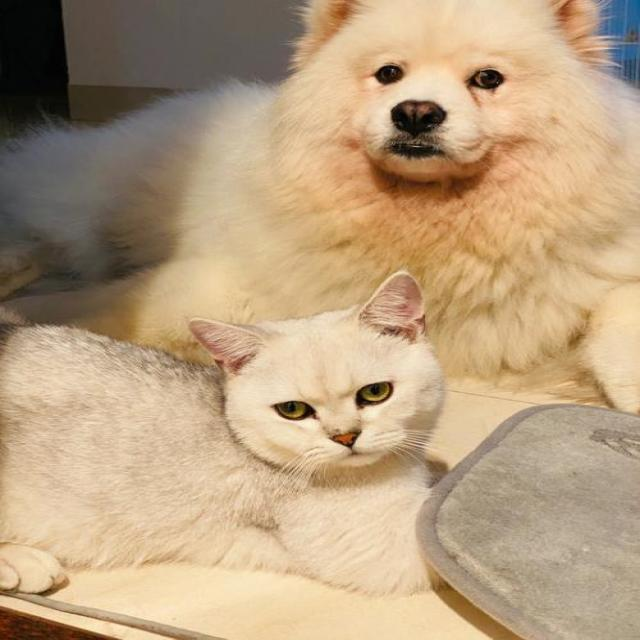cat: (158, 256, 505, 490)
dog: (237, 3, 640, 250)
